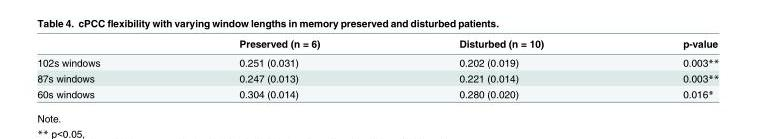table: (36, 37, 718, 99)
table column: (388, 37, 612, 99), (169, 37, 388, 99), (36, 37, 169, 99), (612, 37, 718, 99)
table column header: (36, 37, 718, 52)
table row: (36, 52, 718, 70), (36, 37, 718, 52), (36, 70, 718, 85), (36, 85, 718, 99)
